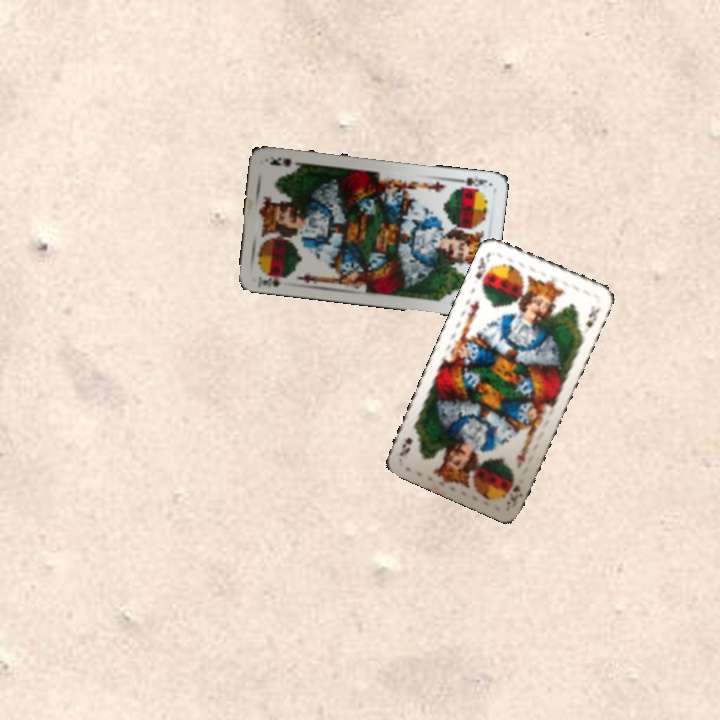SK: (471, 248, 493, 290), (452, 173, 490, 193), (258, 269, 291, 290), (502, 480, 525, 509)
